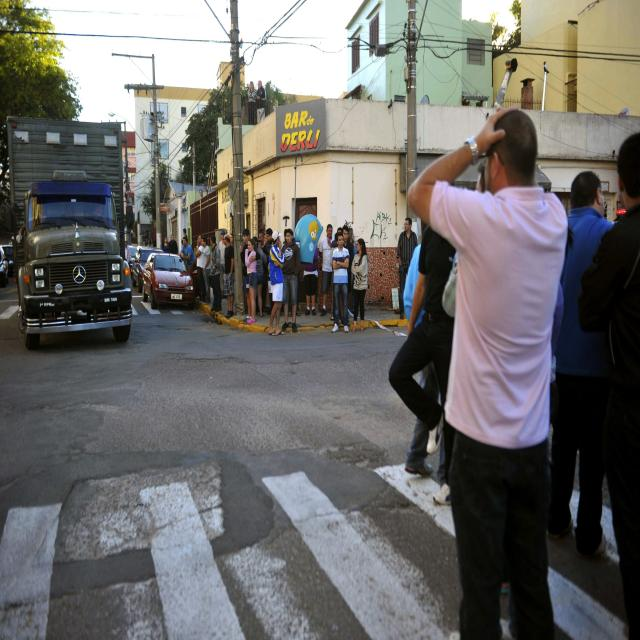body: (404, 103, 568, 640), (390, 168, 573, 604), (575, 132, 640, 640), (544, 166, 617, 556), (327, 227, 363, 324), (396, 217, 418, 320), (239, 228, 261, 325), (267, 230, 286, 336), (282, 228, 300, 332), (349, 238, 368, 334), (331, 234, 349, 334), (55, 200, 109, 233), (250, 233, 270, 320), (318, 224, 336, 317), (341, 226, 354, 327), (244, 238, 258, 325), (222, 234, 235, 320), (347, 228, 359, 318), (208, 235, 222, 312), (304, 246, 318, 316), (284, 276, 302, 318), (194, 235, 205, 302), (201, 236, 211, 305), (4, 222, 26, 251), (219, 230, 228, 300), (196, 234, 204, 304), (180, 237, 196, 269), (262, 228, 275, 264), (125, 240, 132, 274), (168, 234, 178, 255), (181, 228, 188, 246), (162, 237, 169, 253), (229, 232, 234, 249), (199, 189, 205, 200), (148, 239, 154, 247), (146, 238, 150, 247)
